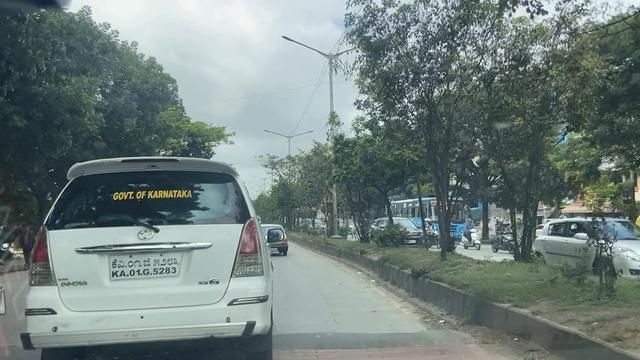HMV: (377, 193, 470, 250)
